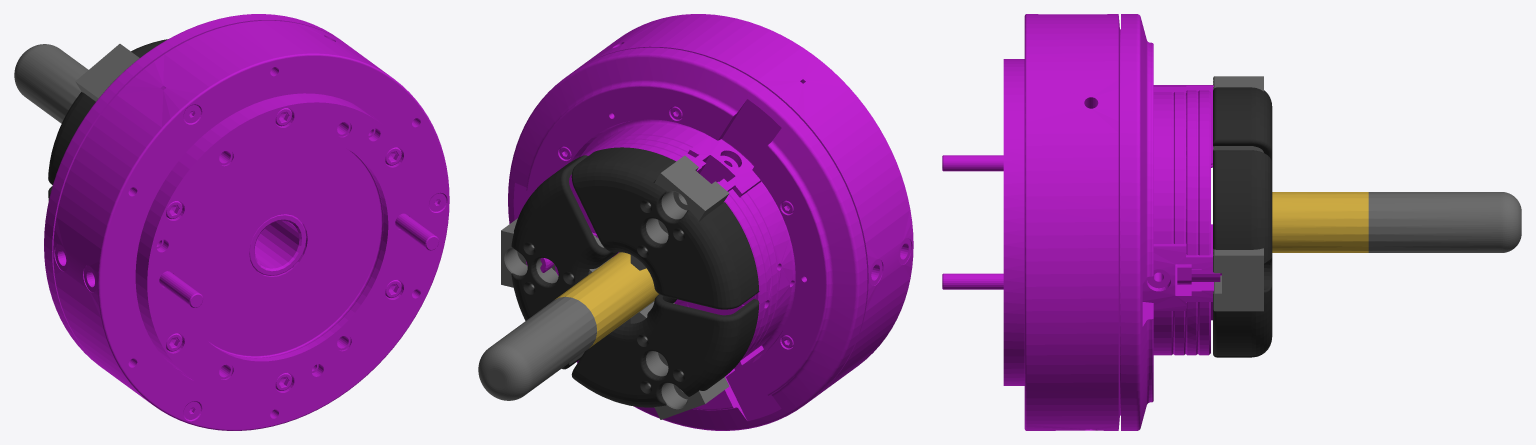
File: shunk_machine_lathe_centered.dae
3 renders of one model, left to right at view 1: azimuth 30°, elevation 25°; view 2: azimuth 150°, elevation 25°; view 3: azimuth 270°, elevation 25°, orthographic. The views are drawn at different scales.
Parts seen in each view (by area): view 1: node225; view 2: node225; view 3: node225.
Boxes of the visible parts, <box> form: node225: <box>14,14,449,430</box>; node225: <box>478,14,913,430</box>; node225: <box>942,14,1521,430</box>.
Size of the model in its own units: 0.204 by 0.2836 by 0.204.
